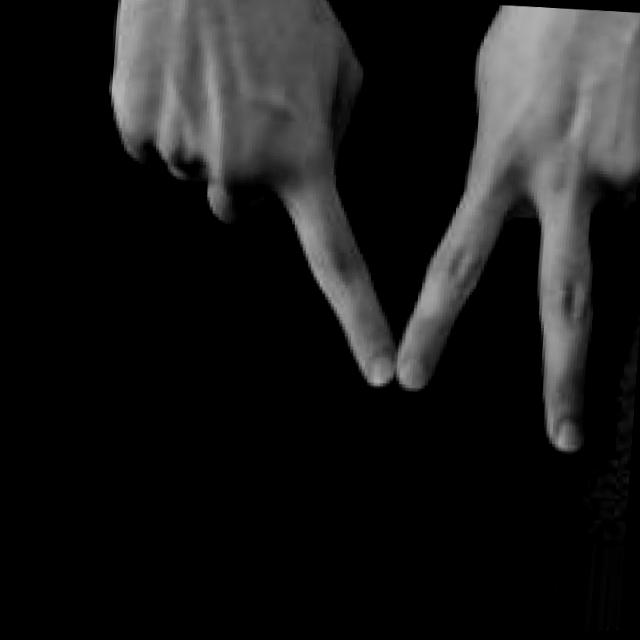N: (84, 0, 640, 469)
